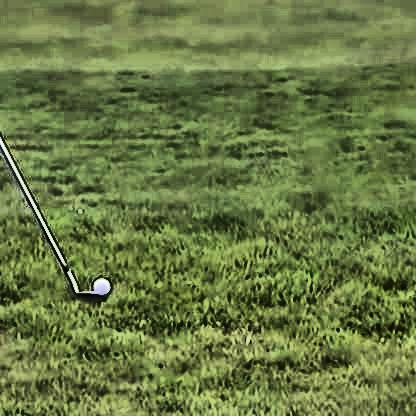golfball: (88, 270, 110, 294)
